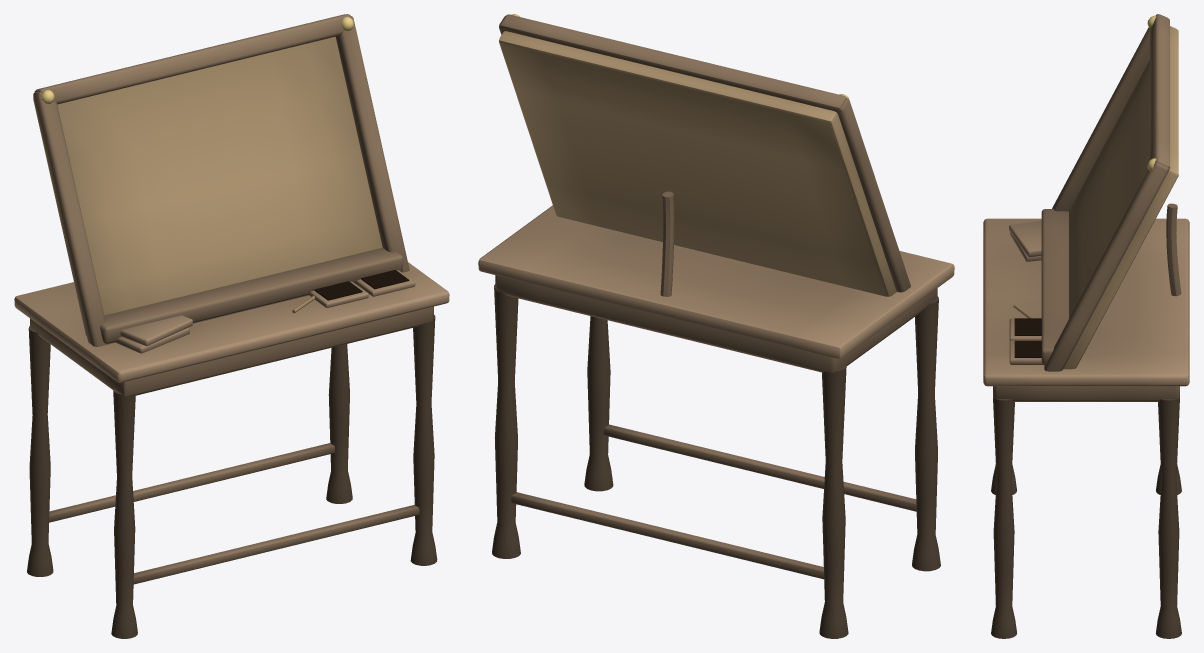
File: obj_kit_tablets.glb
The picture shows the model from 3 angles, left to right: view 1: azimuth 30°, elevation 25°; view 2: azimuth 150°, elevation 25°; view 3: azimuth 270°, elevation 25°; orthographic projection. The views are drawn at different scales.
Visible parts, largest first — view 1: Cube.004, Cube, Cube.009, Cube.001, Cube.005, Cube.008, Cube.007, leg, leg.001, leg.002, Cube.002, Cube.003 (+2 smaller); view 2: Cube.004, Cube, Cube.001, Cube.005, leg.001, leg, leg.003, Cube.003, Cube.002, leg.002, Cube.008, strut; view 3: Cube, Cube.004, leg.002, leg.003, Cube.007, Cube.009, Cube.008, Cube.005, Cube.001, strut, Cube.011, Cube.015 (+2 smaller).
Boxes of the visible parts, bbox=[...] form: Cube.004: bbox=[33, 36, 382, 336]; Cube: bbox=[14, 262, 449, 382]; Cube.009: bbox=[100, 247, 403, 343]; Cube.001: bbox=[30, 306, 433, 396]; Cube.005: bbox=[34, 14, 350, 104]; Cube.008: bbox=[33, 92, 109, 346]; Cube.007: bbox=[336, 16, 409, 272]; leg: bbox=[111, 388, 137, 638]; leg.001: bbox=[27, 326, 53, 576]; leg.002: bbox=[410, 315, 437, 565]; Cube.002: bbox=[133, 504, 419, 584]; Cube.003: bbox=[49, 443, 334, 522]; Cube.004: bbox=[499, 31, 896, 296]; Cube: bbox=[478, 205, 954, 358]; Cube.001: bbox=[495, 275, 937, 373]; Cube.005: bbox=[500, 14, 846, 118]; leg.001: bbox=[819, 365, 848, 638]; leg: bbox=[912, 296, 940, 571]; leg.003: bbox=[492, 284, 520, 558]; Cube.003: bbox=[511, 492, 824, 579]; Cube.002: bbox=[603, 424, 916, 511]; leg.002: bbox=[584, 316, 613, 491]; Cube.008: bbox=[831, 98, 910, 292]; strut: bbox=[660, 191, 674, 296]; Cube: bbox=[983, 218, 1189, 386]; Cube.004: bbox=[1063, 26, 1178, 369]; leg.002: bbox=[991, 398, 1016, 638]; leg.003: bbox=[1156, 398, 1181, 638]; Cube.007: bbox=[1044, 162, 1169, 371]; Cube.009: bbox=[1041, 209, 1068, 365]; Cube.008: bbox=[1052, 27, 1149, 211]; Cube.005: bbox=[1150, 14, 1169, 168]; Cube.001: bbox=[993, 386, 1179, 401]; strut: bbox=[1166, 203, 1181, 296]; Cube.011: bbox=[1009, 220, 1041, 257]; Cube.015: bbox=[1014, 318, 1041, 335].
Size of the model in its own units: 1 by 1.4 by 0.55.
